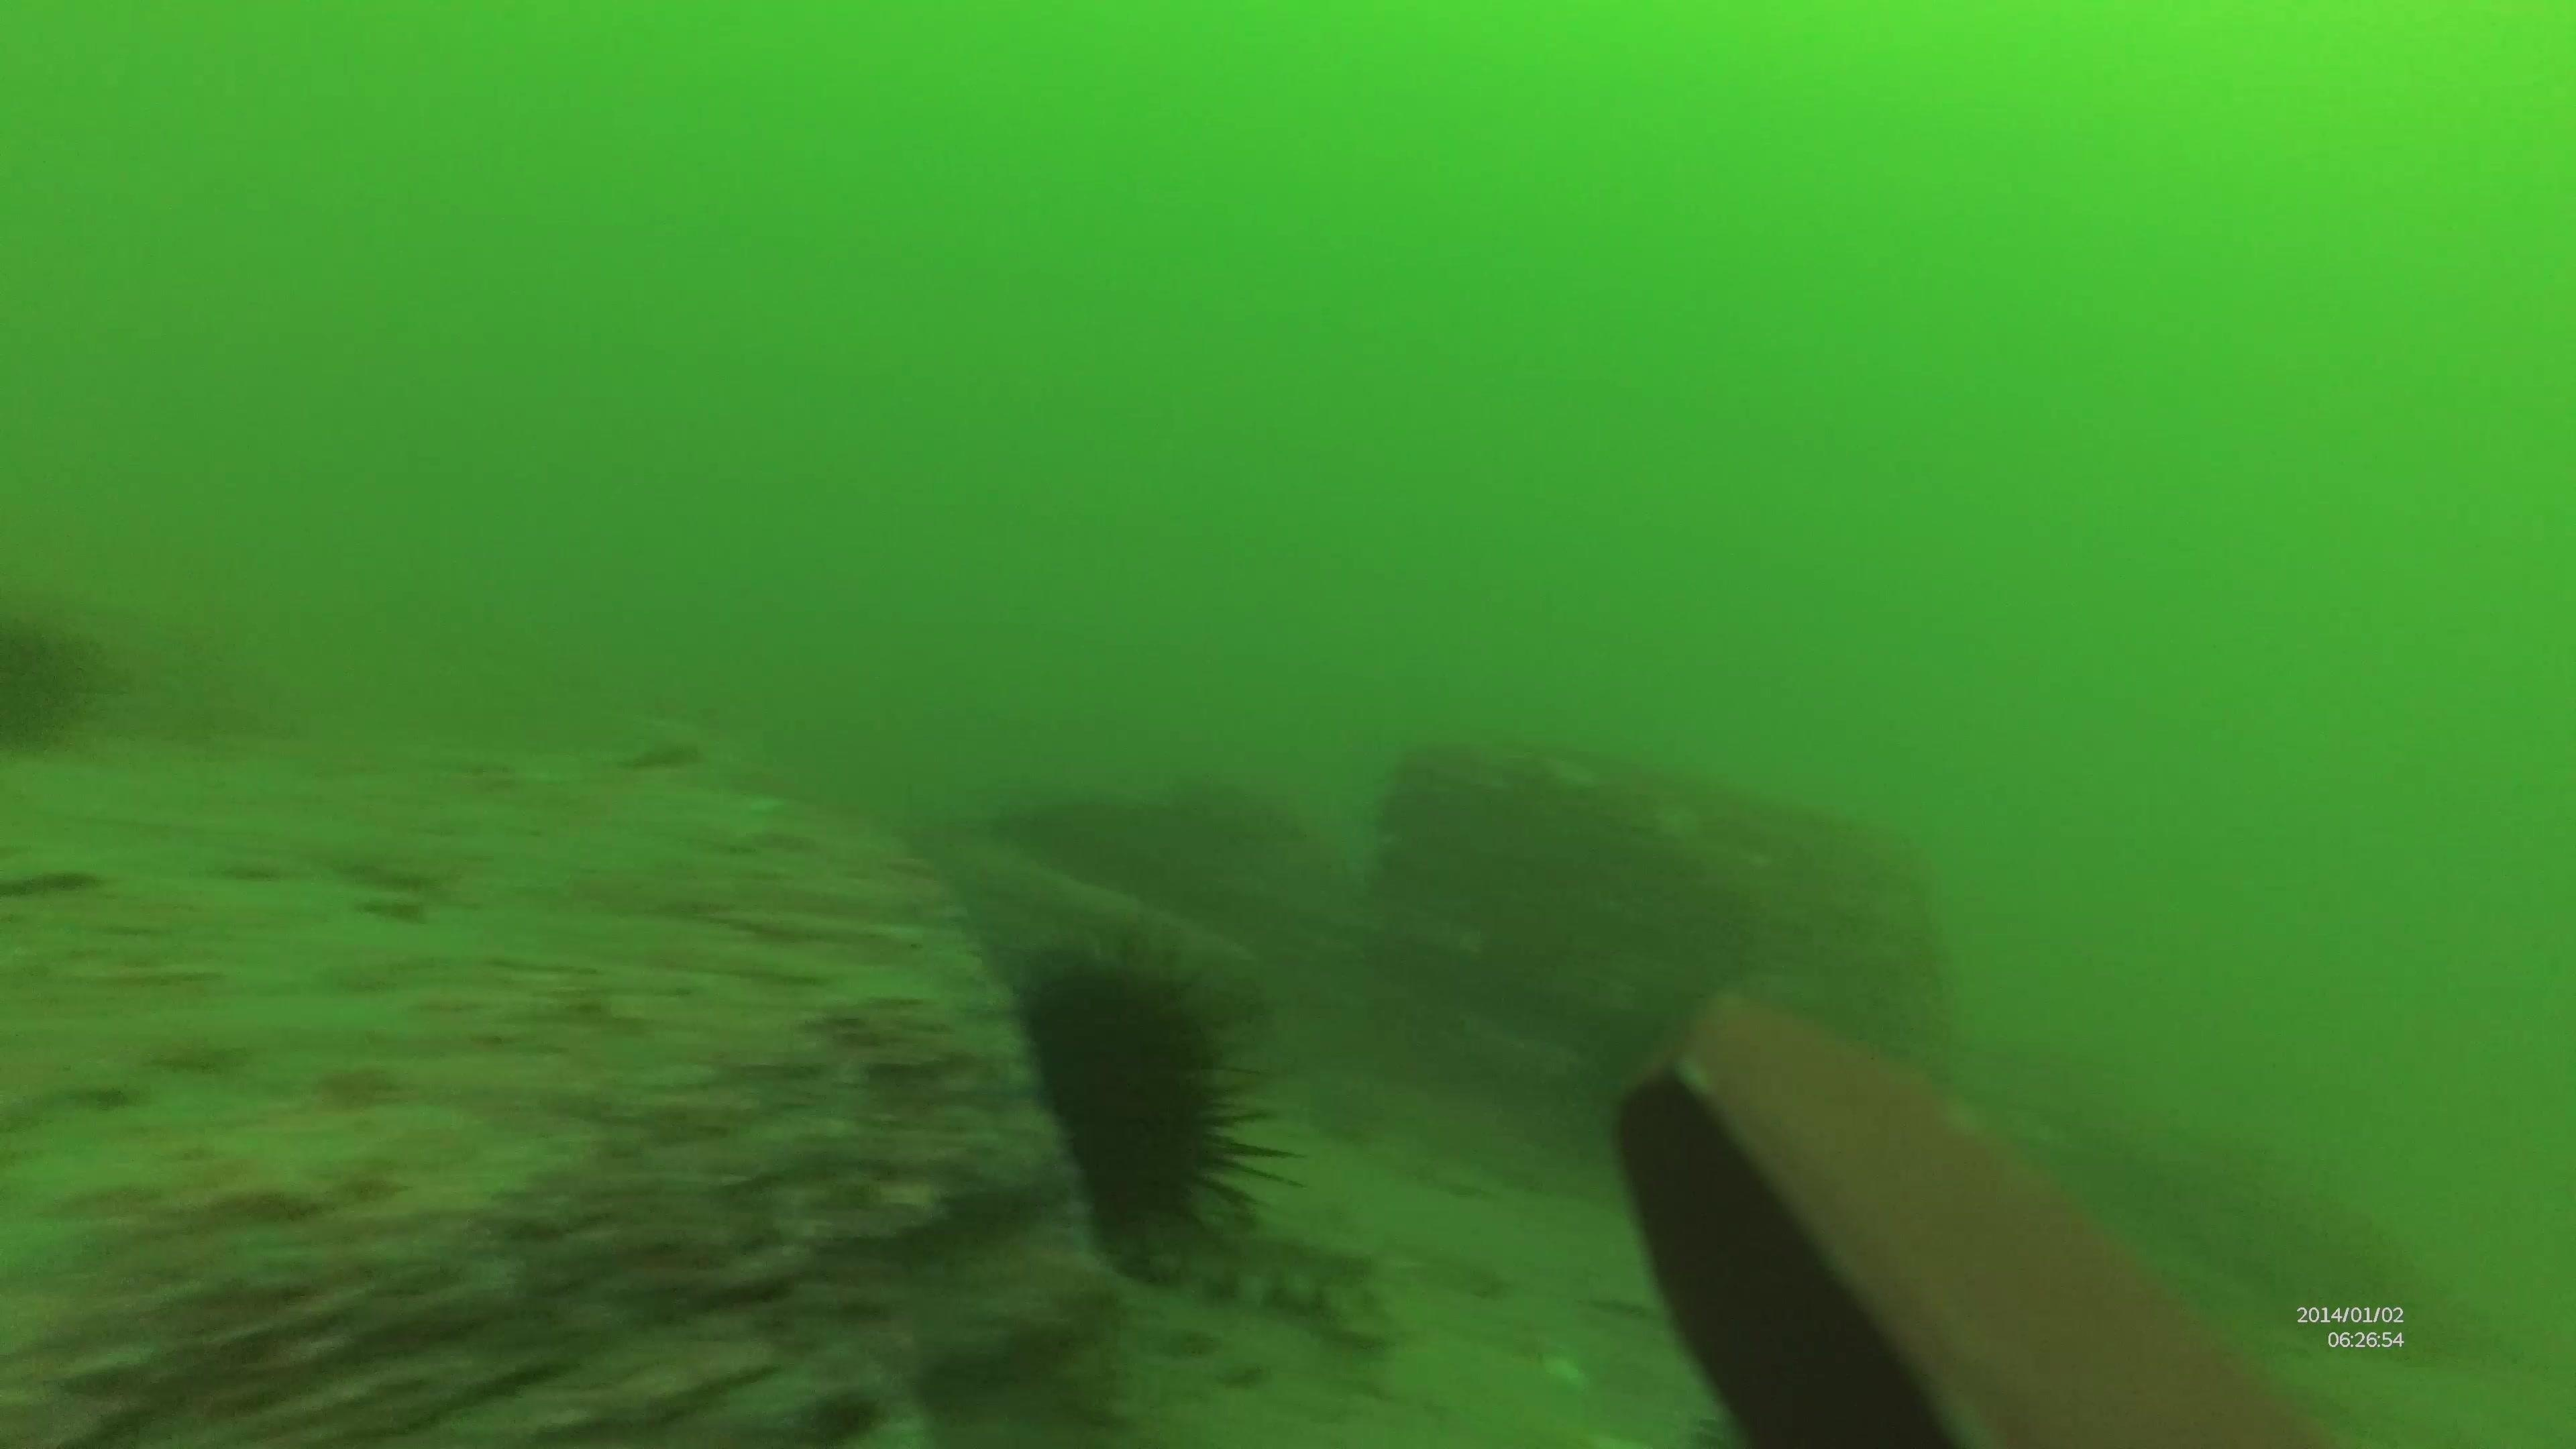echinus: (996, 932, 1290, 1260), (2, 598, 124, 763)
holothurian: (1086, 1214, 1407, 1346)
